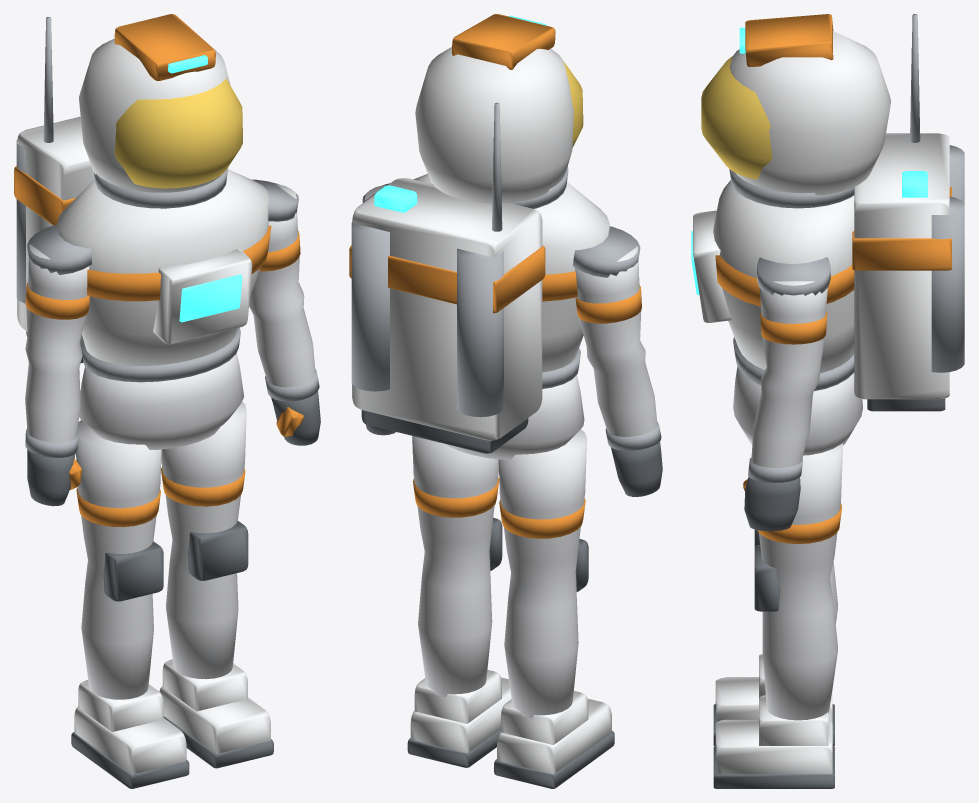
Rendered from astronaut-character.glb.
3 views of the same model, side by side, from view 1: azimuth 30°, elevation 25°; view 2: azimuth 150°, elevation 25°; view 3: azimuth 270°, elevation 25° (orthographic). The views are drawn at different scales.
Parts seen in each view (by area): view 1: Suit_Hard_Upper_Torso, Leg_Suit_Segment_L, Leg_Suit_Segment_R, Helmet_Gold_Visor, Suit_Lower_Torso_Pelvis, Arm_Suit_Segment_L, Helmet_Outer_Shell, Arm_Suit_Segment_R, Chest_DCM_Unit, PLSS_Main_Housing, Mars_Boot_Foot_L, Mars_Boot_Foot_R (+25 smaller); view 2: PLSS_Main_Housing, Helmet_Outer_Shell, Leg_Suit_Segment_L, Leg_Suit_Segment_R, Arm_Suit_Segment_L, PLSS_O2_Cylinder_L, Suit_Hard_Upper_Torso, PLSS_O2_Cylinder_R, PLSS_Role_Stripe, Suit_Lower_Torso_Pelvis, Helmet_Top_Cap, Mars_Boot_Foot_L (+20 smaller); view 3: PLSS_Main_Housing, Helmet_Outer_Shell, Leg_Suit_Segment_R, Suit_Hard_Upper_Torso, Arm_Suit_Segment_R, Helmet_Gold_Visor, PLSS_O2_Cylinder_R, Mars_Boot_Foot_R, Suit_Lower_Torso_Pelvis, Helmet_Top_Cap, PLSS_Role_Stripe, Chest_DCM_Unit (+16 smaller).
Part boxes in pixels (x1,y1,x2,y2): Suit_Hard_Upper_Torso: [57, 169, 268, 365]; Leg_Suit_Segment_L: [76, 420, 161, 699]; Leg_Suit_Segment_R: [161, 401, 246, 679]; Helmet_Gold_Visor: [114, 78, 242, 188]; Suit_Lower_Torso_Pelvis: [79, 353, 244, 449]; Arm_Suit_Segment_L: [25, 244, 89, 442]; Helmet_Outer_Shell: [79, 39, 230, 192]; Arm_Suit_Segment_R: [249, 184, 315, 387]; Chest_DCM_Unit: [153, 248, 252, 344]; PLSS_Main_Housing: [17, 116, 94, 351]; Mars_Boot_Foot_L: [74, 707, 186, 774]; Mars_Boot_Foot_R: [159, 686, 270, 753]; PLSS_Main_Housing: [352, 178, 542, 440]; Helmet_Outer_Shell: [415, 47, 573, 203]; Leg_Suit_Segment_L: [498, 429, 586, 718]; Leg_Suit_Segment_R: [412, 436, 498, 697]; Arm_Suit_Segment_L: [575, 246, 657, 436]; PLSS_O2_Cylinder_L: [457, 248, 503, 417]; Suit_Hard_Upper_Torso: [413, 173, 609, 372]; PLSS_O2_Cylinder_R: [351, 223, 389, 391]; PLSS_Role_Stripe: [349, 245, 545, 313]; Suit_Lower_Torso_Pelvis: [445, 375, 584, 459]; Helmet_Top_Cap: [452, 14, 555, 69]; Mars_Boot_Foot_L: [497, 698, 611, 774]; PLSS_Main_Housing: [854, 133, 949, 399]; Helmet_Outer_Shell: [730, 31, 891, 195]; Leg_Suit_Segment_R: [758, 443, 842, 720]; Suit_Hard_Upper_Torso: [713, 180, 854, 373]; Arm_Suit_Segment_R: [751, 281, 827, 467]; Helmet_Gold_Visor: [701, 56, 772, 179]; PLSS_O2_Cylinder_R: [931, 196, 964, 372]; Mars_Boot_Foot_R: [715, 719, 832, 774]; Suit_Lower_Torso_Pelvis: [733, 366, 862, 455]; Helmet_Top_Cap: [745, 14, 833, 66]; PLSS_Role_Stripe: [852, 187, 951, 270]; Chest_DCM_Unit: [693, 210, 731, 322].
Bounding box in the file's own units: 0.7825 × 1.85 × 0.6303.
